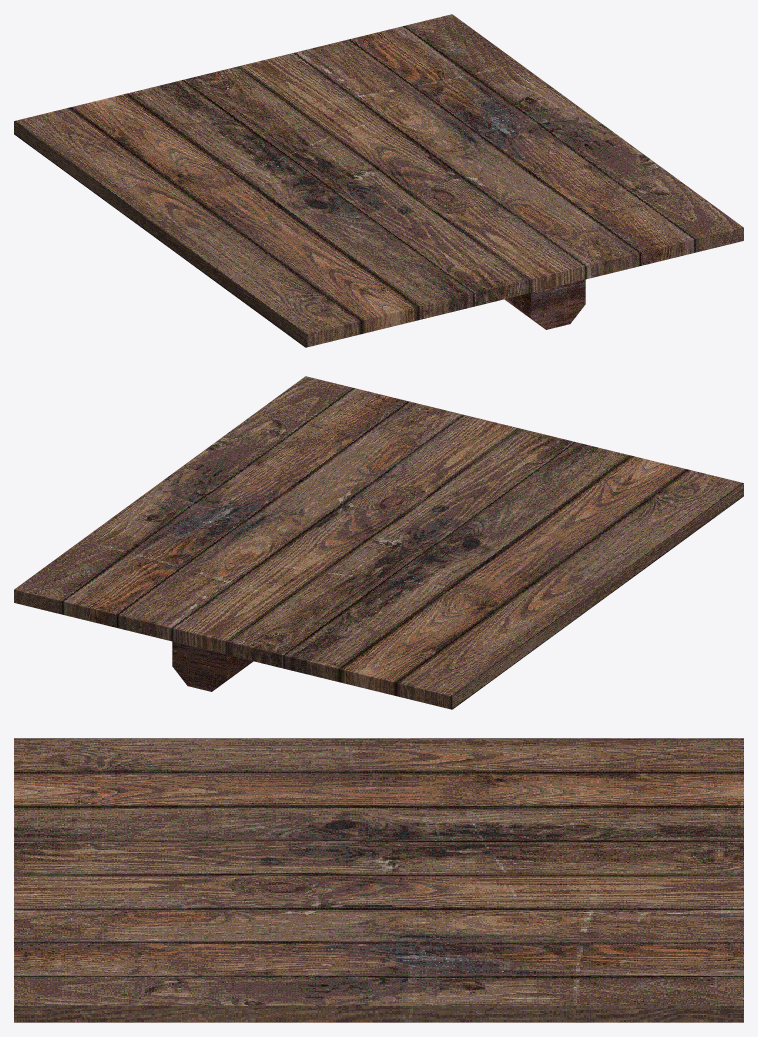
Rendered from ceiling-beamE.glb.
The picture shows the model from 3 angles, top to bottom: view 1: azimuth 30°, elevation 25°; view 2: azimuth 150°, elevation 25°; view 3: azimuth 270°, elevation 25°; orthographic projection. The views are drawn at different scales.
Parts seen in each view (by area): view 1: ceiling-beamE.001; view 2: ceiling-beamE.001; view 3: ceiling-beamE.001.
Part boxes in pixels (x1,y1,x2,y2): ceiling-beamE.001: (14,14,743,347); ceiling-beamE.001: (14,376,743,709); ceiling-beamE.001: (14,738,743,1022).
Size of the model in its own units: 1.74 by 0.2046 by 2.
Materials: 2 (2 with a texture image).
